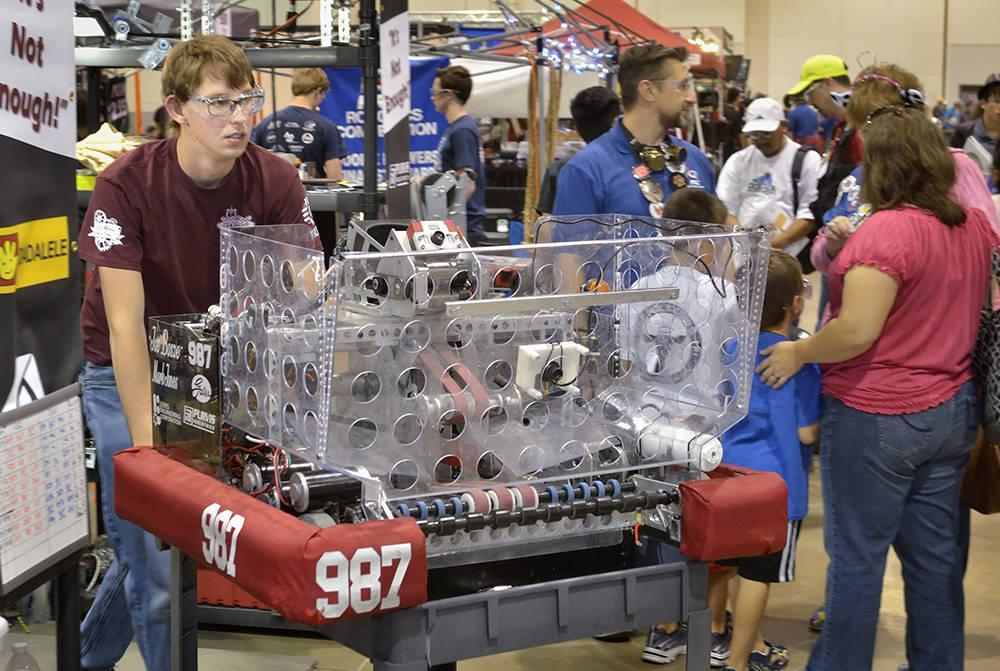robot: (113, 0, 798, 627)
